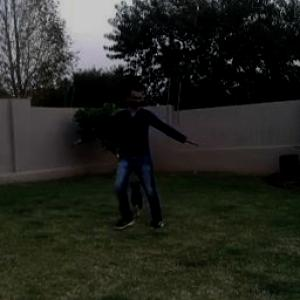land: (76, 95, 189, 226)
